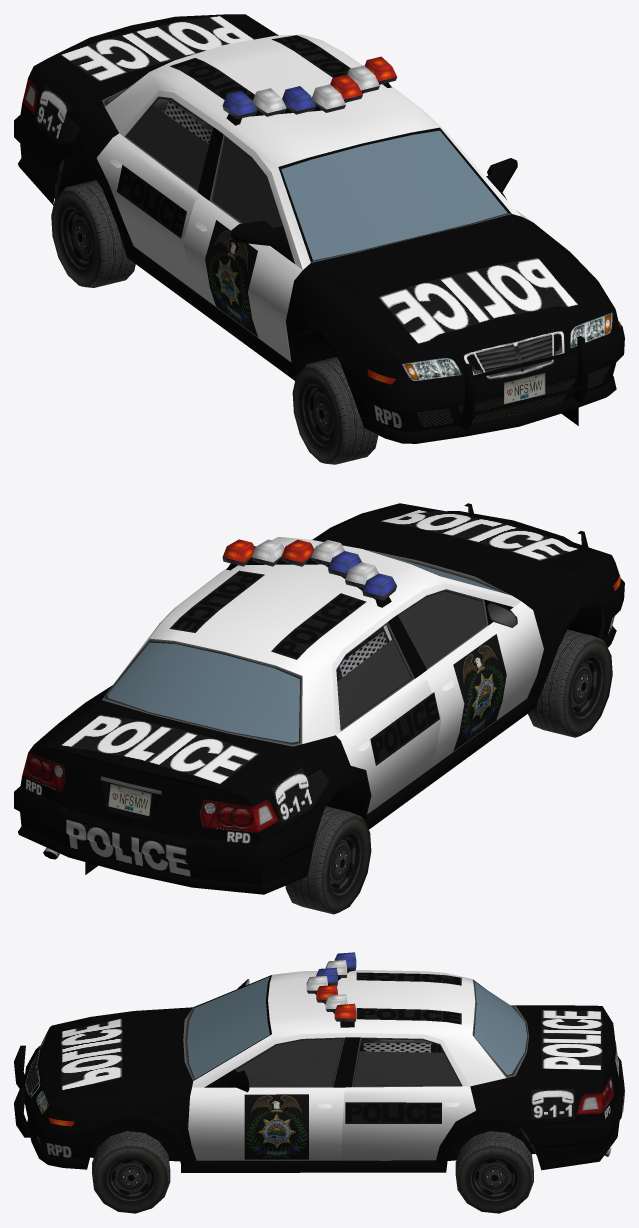
The model's file is copmidsize.glb.
3 views of the same model, one above another, from view 1: azimuth 30°, elevation 25°; view 2: azimuth 150°, elevation 25°; view 3: azimuth 270°, elevation 25° (orthographic). The views are drawn at different scales.
Visible parts, largest first — view 1: body, wheel-back-left, wheel-front-left; view 2: body, wheel-front-left, wheel-back-left; view 3: body, wheel-back-right, wheel-front-right.
Boxes of the visible parts, bbox=[...] form: body: bbox=[14, 14, 624, 443]; wheel-back-left: bbox=[51, 180, 135, 287]; wheel-front-left: bbox=[292, 357, 378, 464]; body: bbox=[14, 503, 624, 894]; wheel-front-left: bbox=[528, 629, 612, 737]; wheel-back-left: bbox=[285, 806, 371, 914]; body: bbox=[14, 952, 624, 1172]; wheel-back-right: bbox=[455, 1131, 533, 1213]; wheel-front-right: bbox=[92, 1131, 170, 1213].
Size of the model in its own units: 2.13 by 1.77 by 5.21.
Materials: 16 (14 with a texture image).
